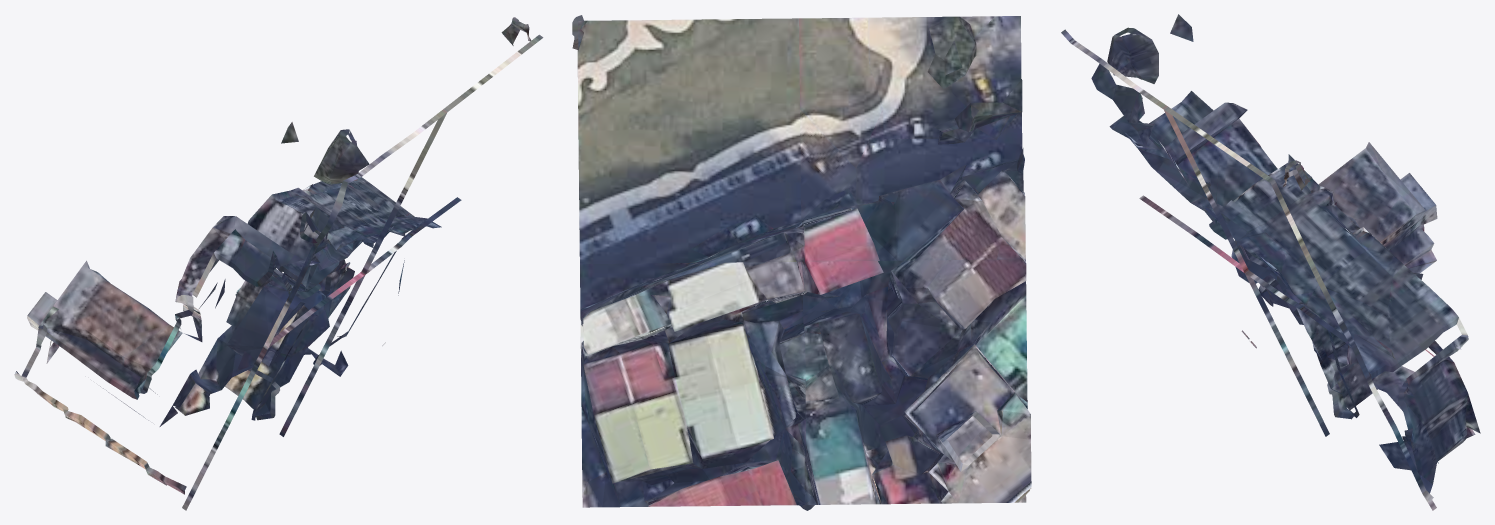
3 views of the same model, side by side, from view 1: azimuth 30°, elevation 25°; view 2: azimuth 150°, elevation 25°; view 3: azimuth 270°, elevation 25° (orthographic). The views are drawn at different scales.
Size of the model in its own units: 93.69 by 73.21 by 71.14.
Materials: 1 (1 with a texture image).
